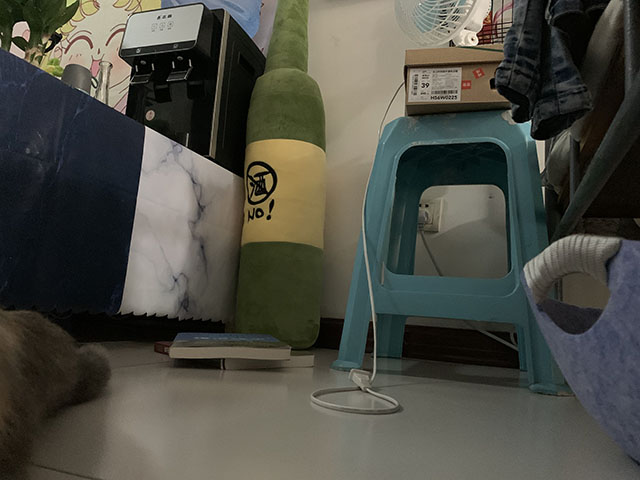book: (152, 331, 318, 371)
stool: (329, 114, 576, 397)
table: (1, 44, 245, 334)
wire: (310, 82, 520, 416)
